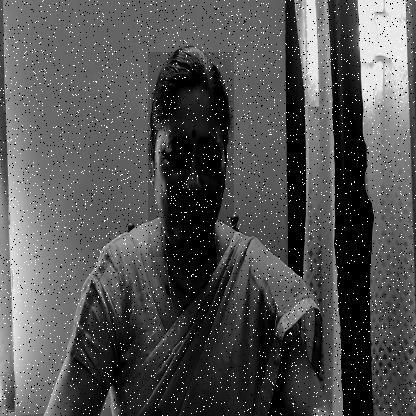Normal: (148, 52, 234, 257)
